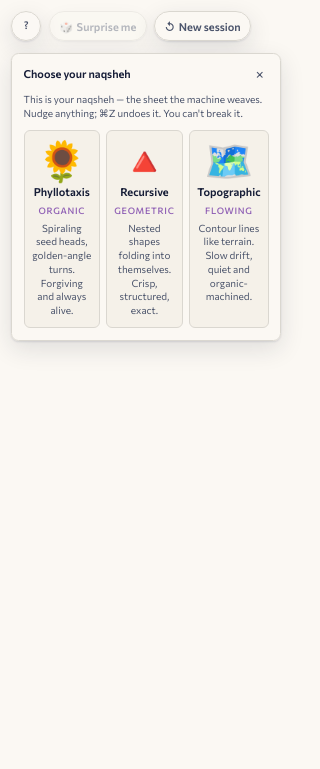
Test case: GuestOnboarding (S2) › the dismiss (skip) button closes the chooser without touching the current document
Click the button named "skip starter chooser" at (260, 74), box [248,63,271,85]
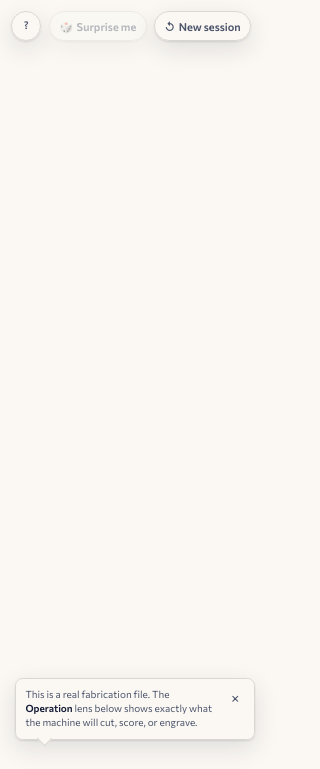
Expected: the element with test id "guest-onboarding-chooser" is gone
